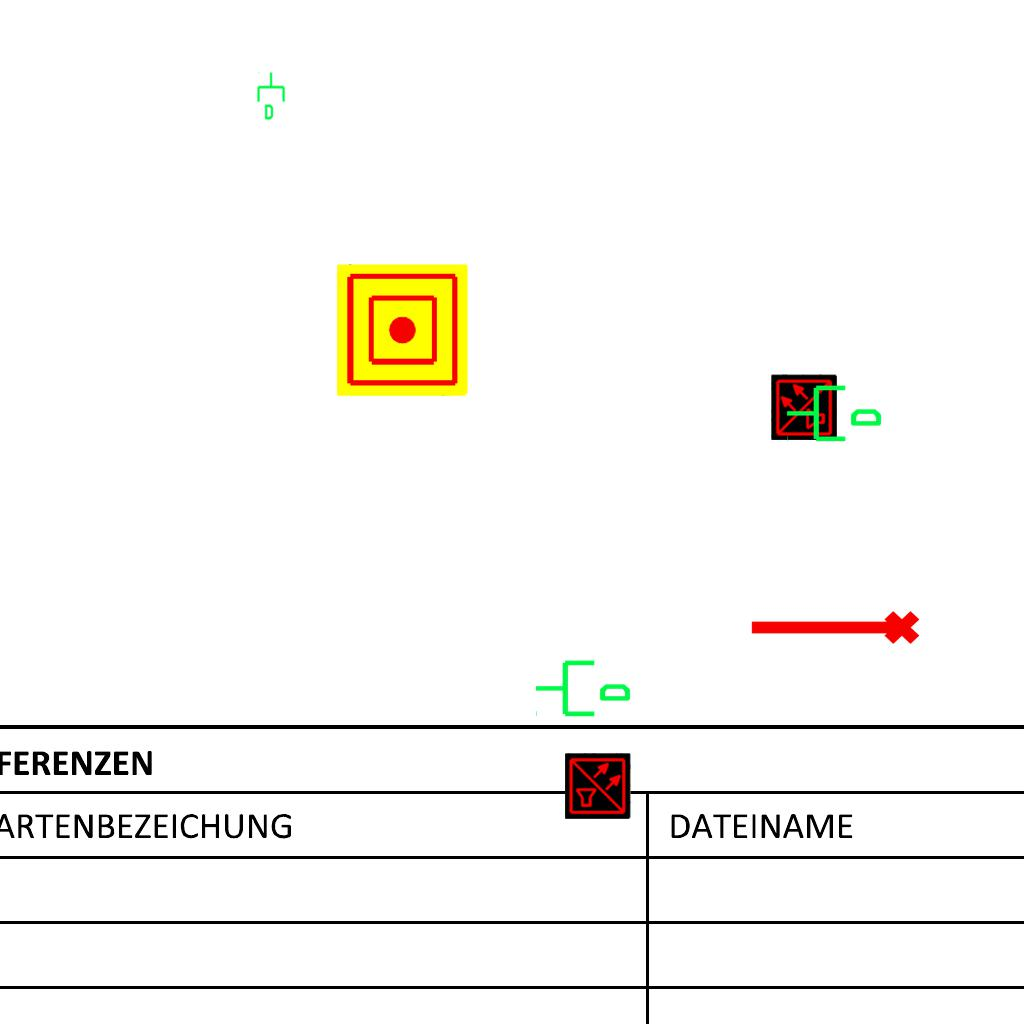ASR_Ansaugoeffnung: (746, 607, 922, 653)
Datenanschluss_einfach: (533, 652, 633, 721), (784, 377, 884, 446), (254, 70, 290, 122)
NAM-Nichtautomatischer_Melder: (336, 264, 468, 396)
OKW_Multisensormelder_(Kombination_optischer_Rauch-Kahlenmonoxid_Waerme-Melder): (771, 374, 837, 440), (565, 753, 631, 819)
